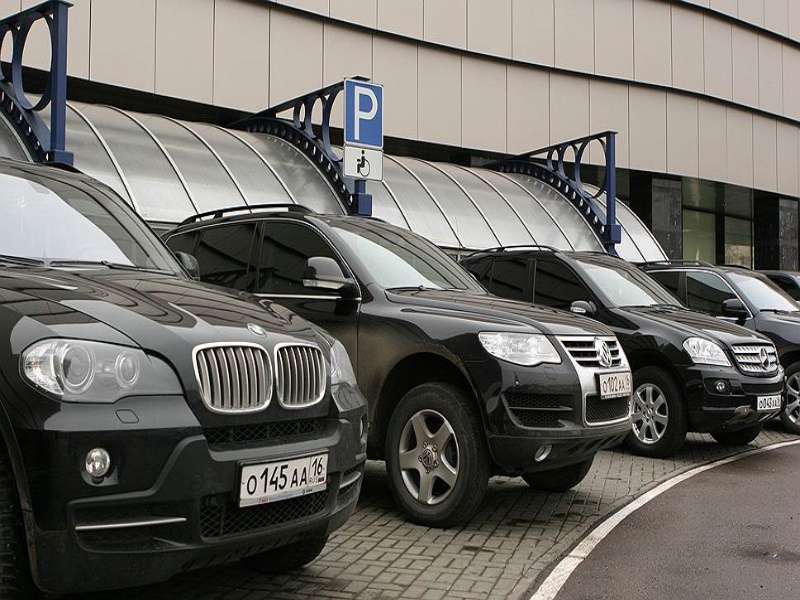car: (1, 154, 369, 600), (161, 205, 633, 522), (456, 246, 787, 457), (635, 259, 800, 435)
plate: (240, 452, 327, 506), (599, 373, 632, 398), (757, 396, 781, 409)
